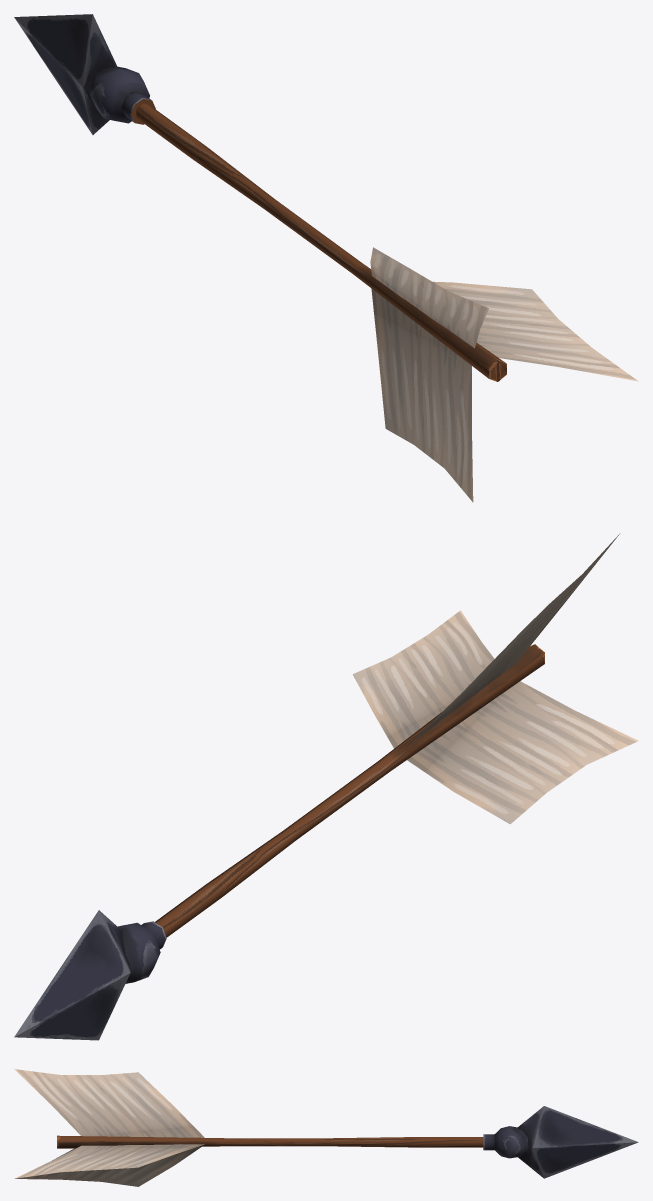
The model's file is Arrow.glb.
3 views of the same model, one above another, from view 1: azimuth 30°, elevation 25°; view 2: azimuth 150°, elevation 25°; view 3: azimuth 270°, elevation 25° (orthographic). The views are drawn at different scales.
Parts seen in each view (by area): view 1: Arrow; view 2: Arrow; view 3: Arrow.
Boxes of the visible parts, left/top/right/bottom form: Arrow: left=14, top=14, right=638, bottom=502; Arrow: left=14, top=533, right=638, bottom=1040; Arrow: left=14, top=1069, right=638, bottom=1186.
Bounding box in the file's own units: 0.1601 × 0.1812 × 0.87.
Materials: 1 (1 with a texture image).
